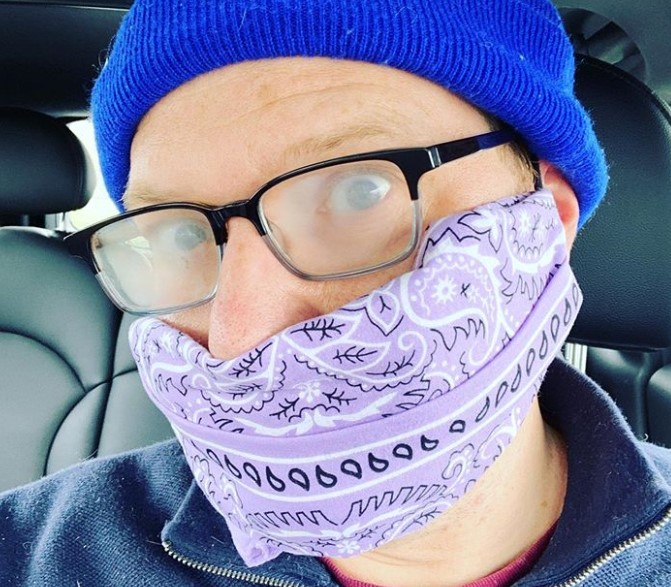face_with_mask: (91, 5, 612, 566)
